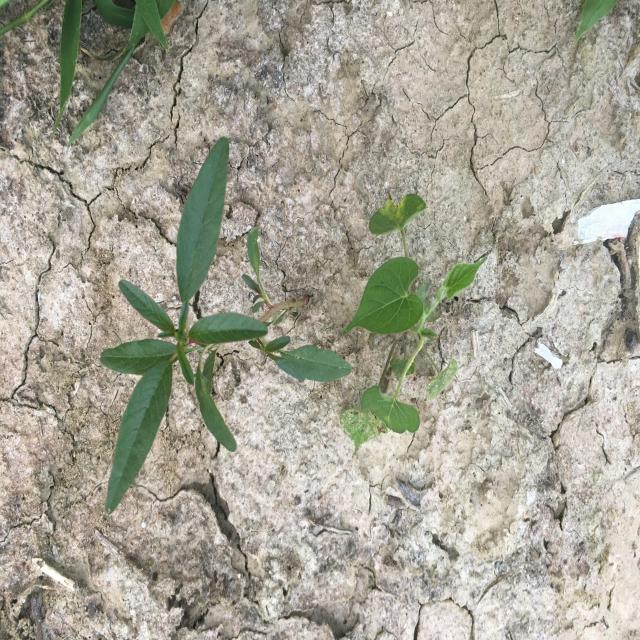MorningGlory: (339, 192, 489, 457)
Waterhemp: (99, 135, 354, 517)
